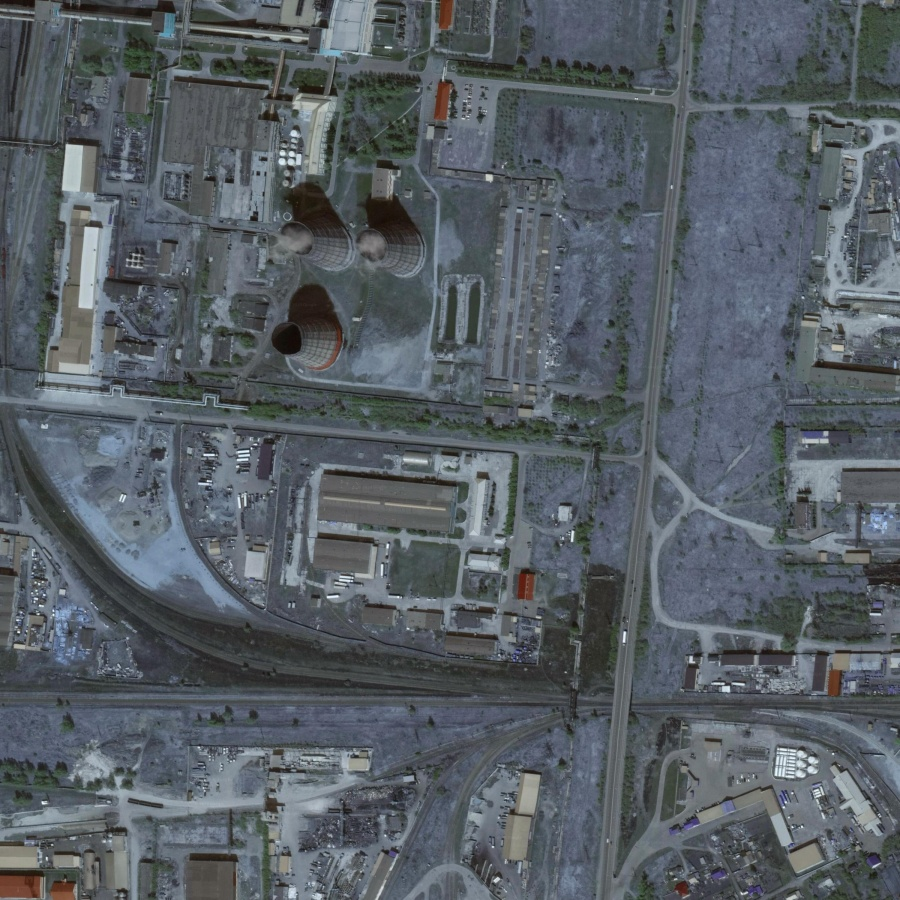PowerPlant: (263, 153, 452, 408)
